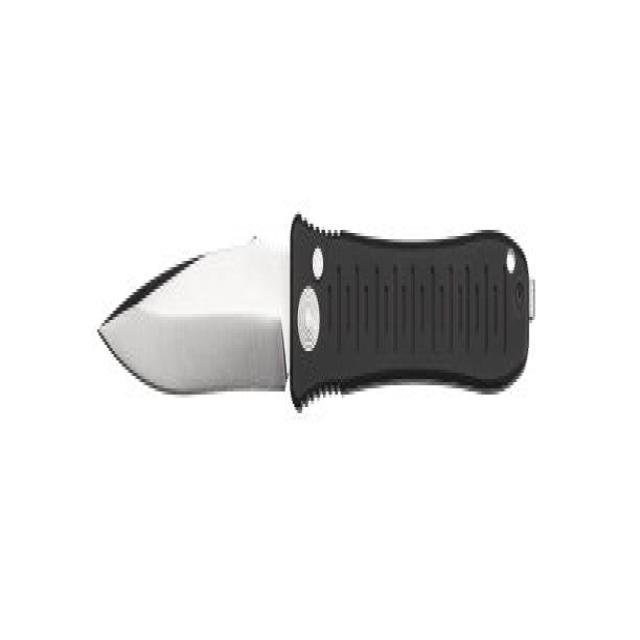knife: (91, 197, 549, 446)
